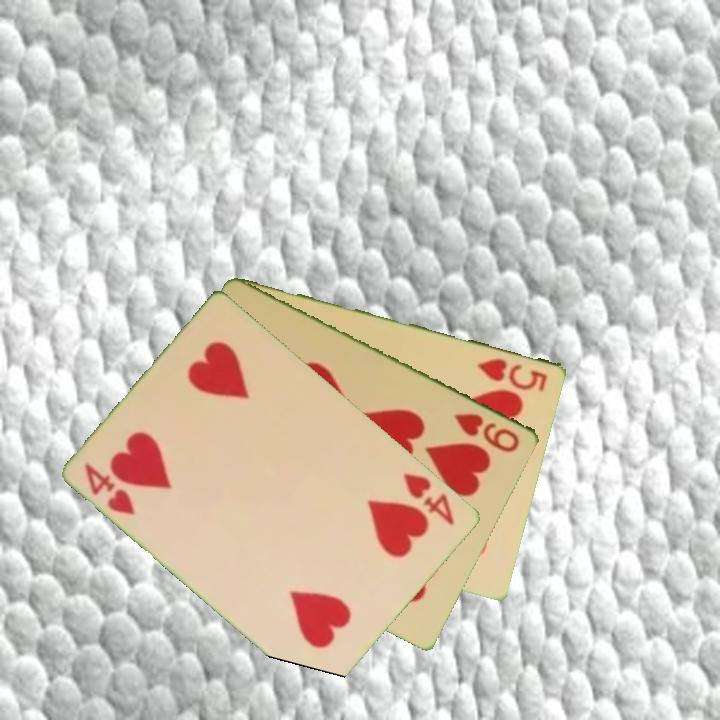4h: (400, 469, 459, 529), (80, 459, 139, 519)
5h: (474, 354, 551, 394)
9h: (451, 409, 523, 456)
